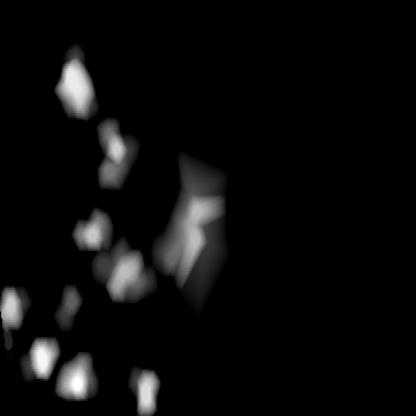fingers: (56, 59, 96, 116)
palm: (1, 281, 158, 411)
thumb: (77, 119, 197, 305)
